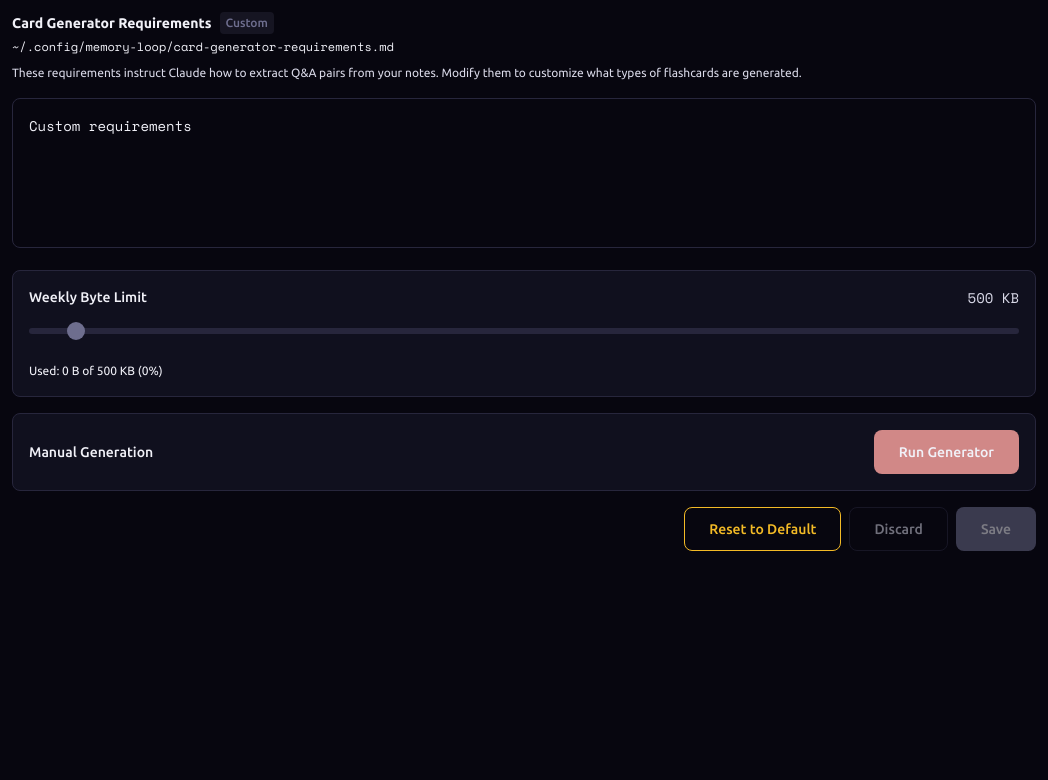
CardGeneratorEditor › reset to default › updates content after successful reset
Note: Click reset
Click the button "Reset to Default": (763, 529) [684,507,842,551]
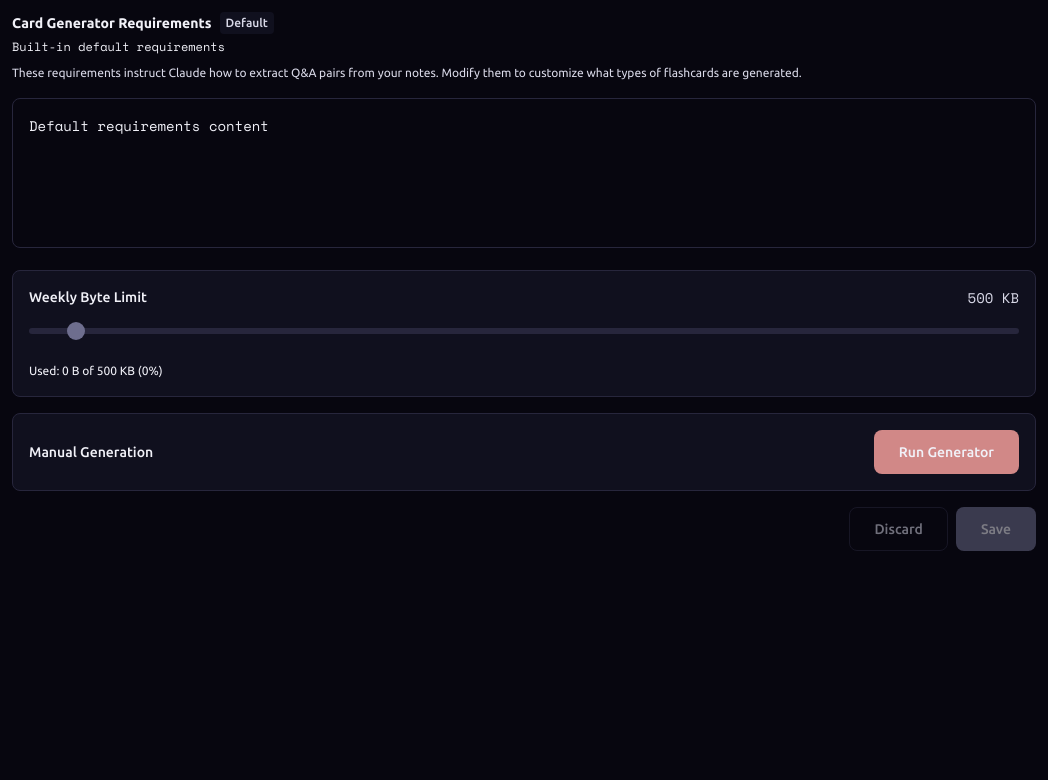
Check: the text box holds "Default requirements content", box [12,98,1036,248]
